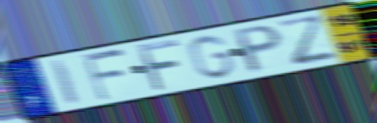F: (135, 38, 184, 94), (80, 47, 129, 103)
G: (186, 33, 237, 80)
I: (49, 57, 83, 107)
P: (233, 23, 284, 76)
Z: (274, 13, 341, 69)
